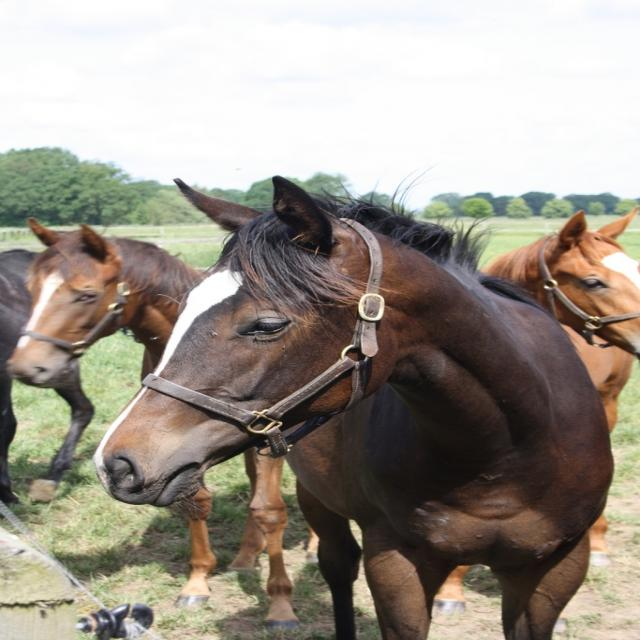Horse: (0, 163, 640, 640)
